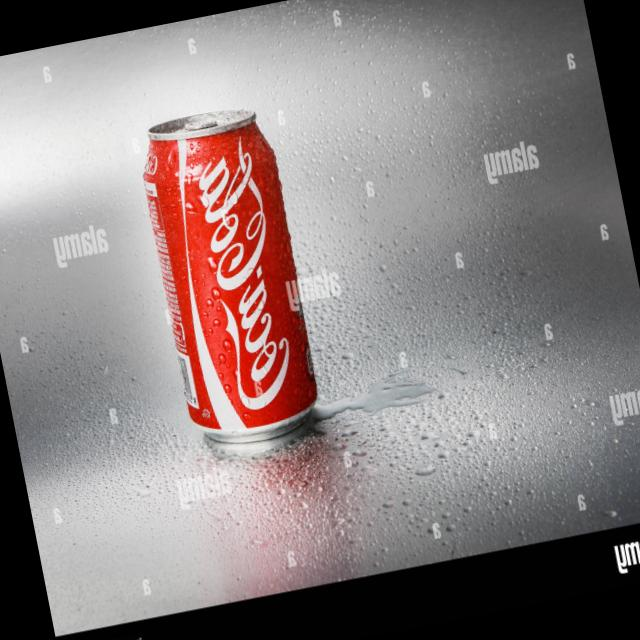cocacola: (120, 88, 330, 460)
